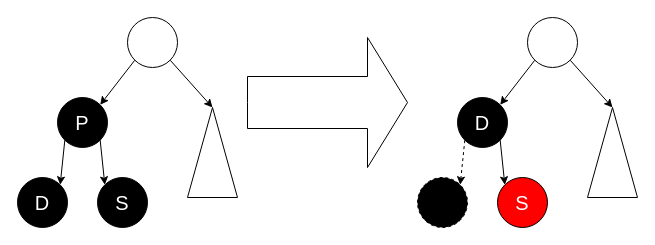
Image size: 655x245. Some labels were removed from this diagram. The centre of each missing label's shape, as x and y in pixels:
"P color？" belongs at point 552,42.
"S变成红色" belongs at point 327,102.
